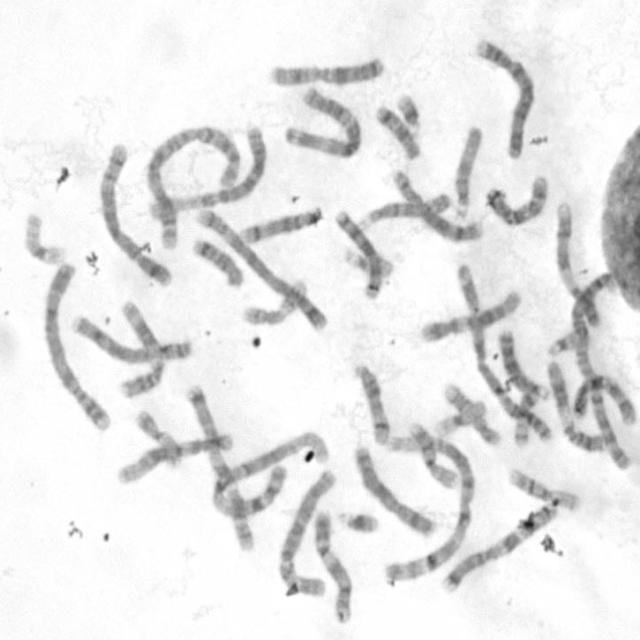A1: (384, 430, 476, 587), (210, 429, 332, 520)
A2: (570, 267, 636, 474), (144, 122, 245, 254)
A3: (451, 255, 554, 448), (280, 83, 363, 158)
B4: (38, 259, 114, 435), (474, 36, 540, 160)
B5: (190, 200, 334, 333), (94, 138, 174, 289)
C10: (481, 170, 549, 228), (571, 372, 638, 429)
C11: (543, 355, 605, 456), (114, 295, 167, 399)
C12: (113, 428, 237, 488), (418, 284, 524, 344)
C6: (147, 124, 271, 222), (275, 464, 339, 598)
C7: (184, 382, 260, 554), (437, 500, 560, 595)
C8: (388, 167, 486, 247), (68, 311, 194, 365)
C9: (553, 198, 603, 329), (309, 506, 355, 626)
D13: (331, 207, 387, 299), (495, 325, 551, 401)
D14: (237, 202, 326, 246), (349, 358, 393, 446)
D15: (357, 187, 452, 230), (454, 120, 490, 224)
E16: (403, 418, 459, 492), (504, 464, 583, 512)
E17: (439, 377, 503, 447), (239, 276, 307, 328)
E18: (188, 234, 246, 290), (371, 101, 422, 160)
F19: (20, 207, 69, 266), (430, 395, 488, 438)
F20: (131, 407, 182, 470), (511, 387, 540, 447)
G21: (392, 88, 423, 134), (334, 506, 381, 534)
G22: (543, 322, 592, 358), (342, 249, 394, 280)
X: (351, 439, 437, 538), (268, 52, 387, 88)
